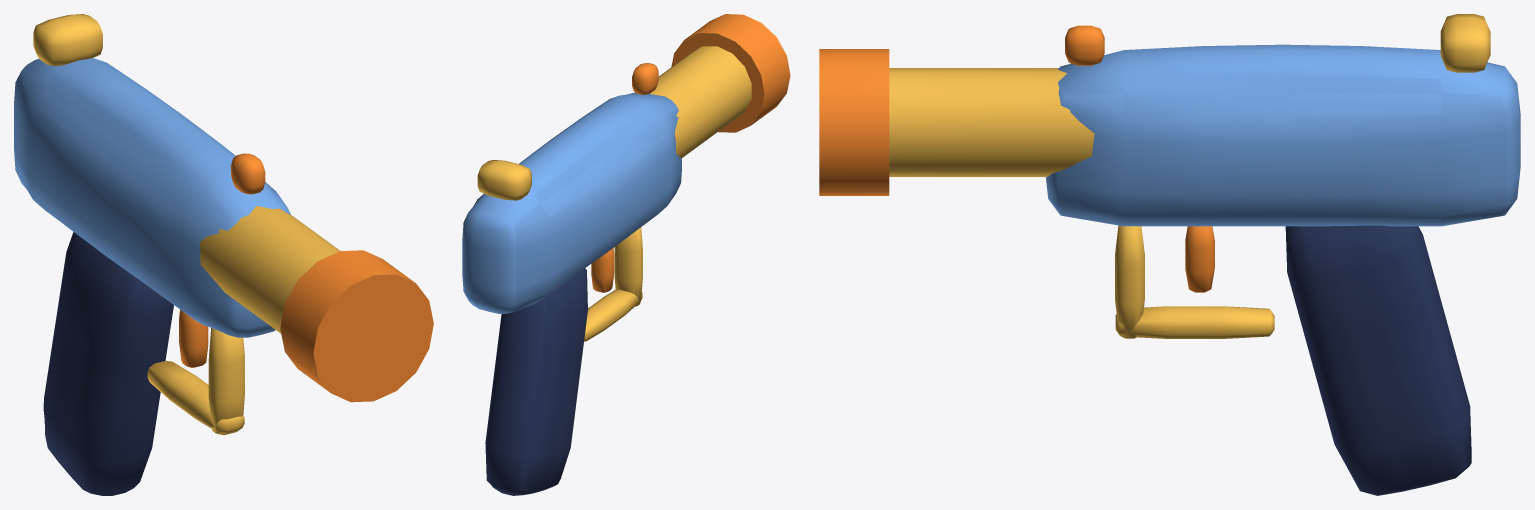
The model's file is pistol.glb.
The picture shows the model from 3 angles, left to right: view 1: azimuth 30°, elevation 25°; view 2: azimuth 150°, elevation 25°; view 3: azimuth 270°, elevation 25°; orthographic projection. The views are drawn at different scales.
Parts seen in each view (by area): view 1: Gun_pistol; view 2: Gun_pistol; view 3: Gun_pistol.
Part boxes in pixels (bbox=[...]): Gun_pistol: bbox=[14, 14, 433, 495]; Gun_pistol: bbox=[462, 14, 790, 495]; Gun_pistol: bbox=[819, 14, 1520, 495].
Size of what is drawn, in the model's own units: 0.0294 by 0.1029 by 0.14.
Materials: 4 (4 with a texture image).
